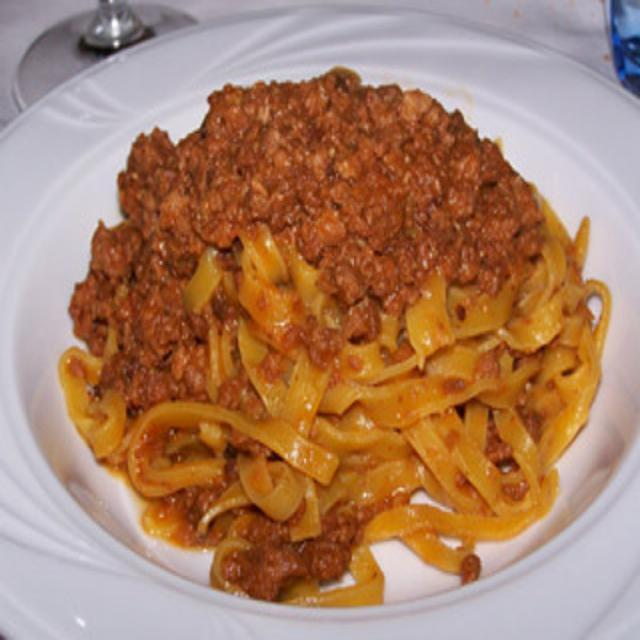Pasta al ragu: (63, 62, 601, 608)
